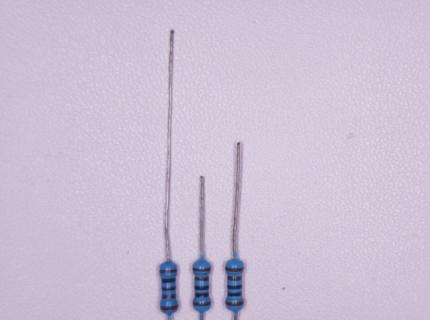Black band: (195, 285, 209, 290), (228, 285, 242, 290), (162, 278, 175, 283), (162, 286, 175, 291), (196, 293, 209, 297), (228, 292, 241, 296)
Brown band: (225, 267, 243, 272), (161, 305, 178, 310), (193, 301, 210, 306), (226, 301, 243, 306), (193, 267, 211, 271), (228, 276, 242, 281), (160, 269, 177, 273), (162, 294, 175, 299), (194, 277, 208, 281)
